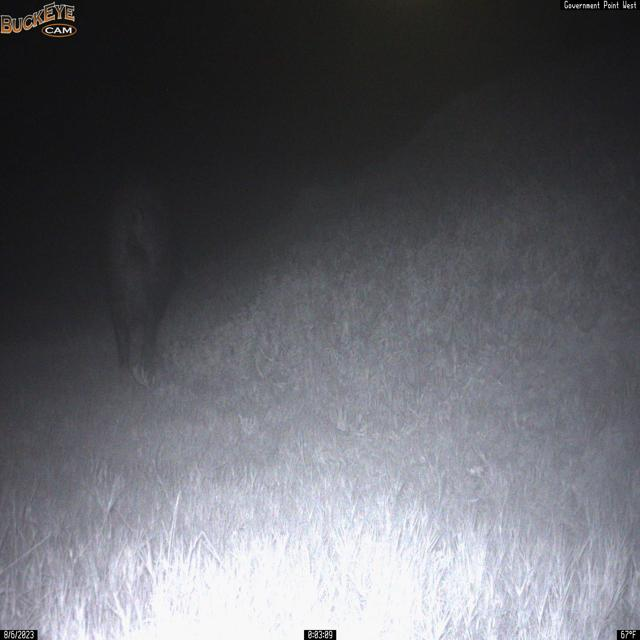pig: (101, 169, 178, 388)
